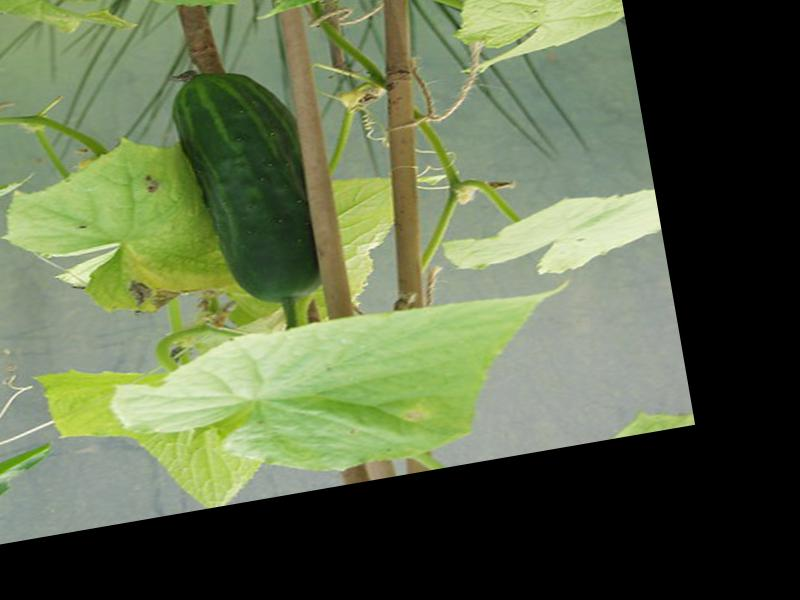Cucumber: (163, 55, 326, 315)
